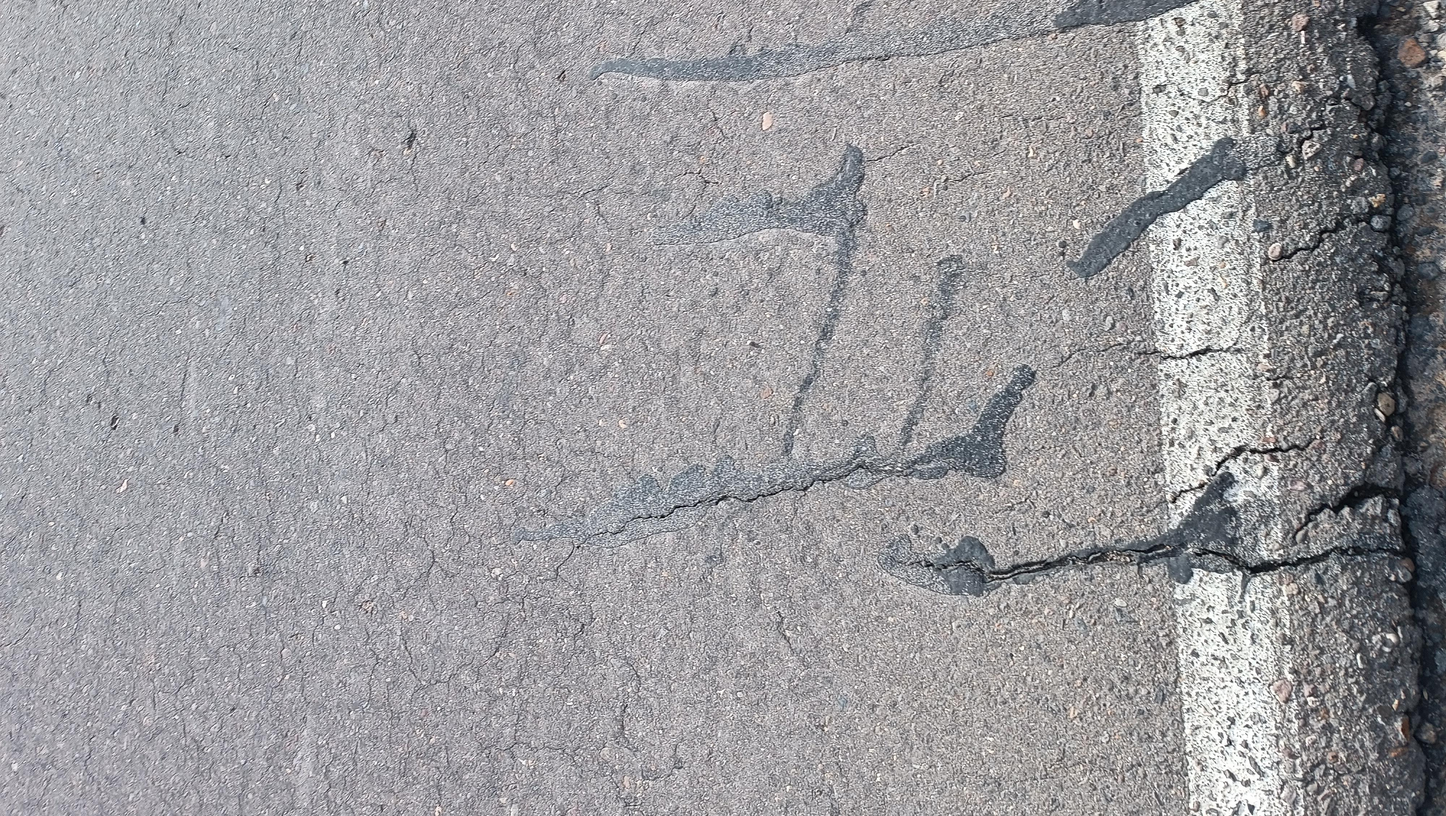GRIETA: (592, 457, 996, 538), (909, 543, 1409, 586), (1168, 439, 1317, 504), (1292, 483, 1402, 544), (1139, 347, 1232, 360)
PIEL DE COCODRILO: (44, 6, 758, 816)
